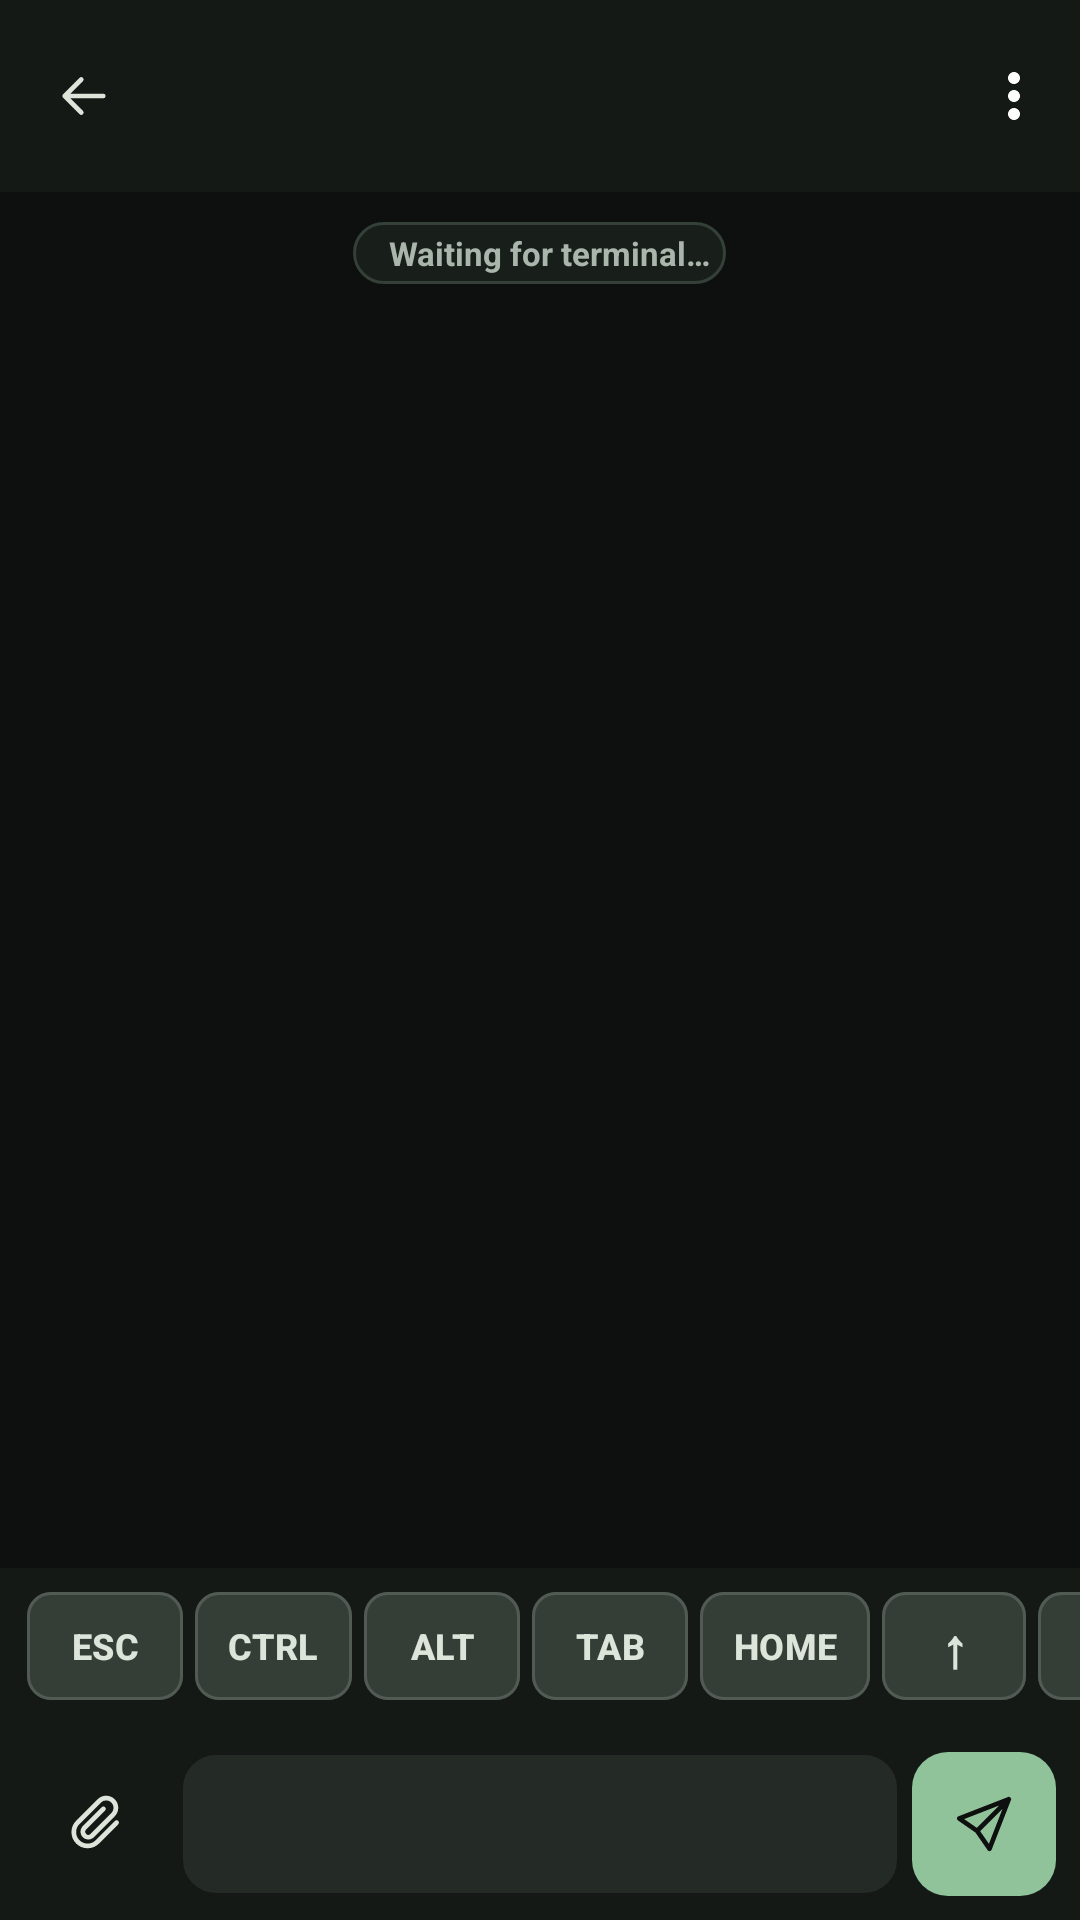

Icon bounding boxes for this 1080 x 1920 phone screenshot, format (x1, y1, x2, y2):
Attach image: (71, 1795, 119, 1849)
Send message: (912, 1752, 1056, 1896)
